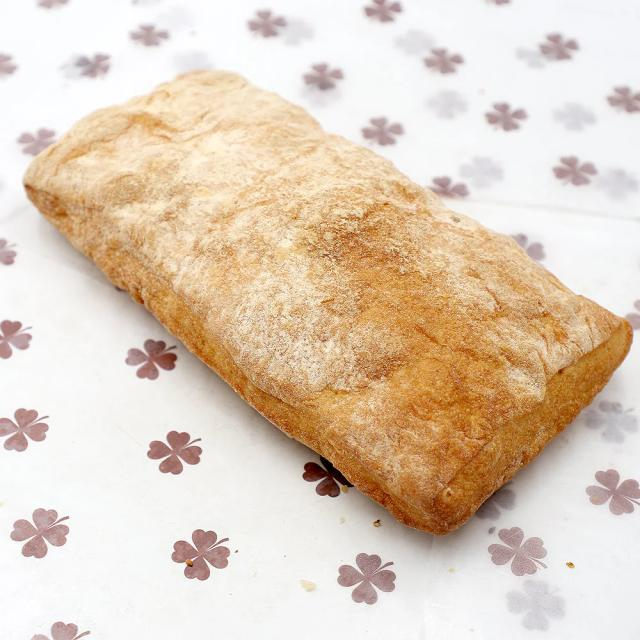Ciabatta: (24, 72, 631, 534)
